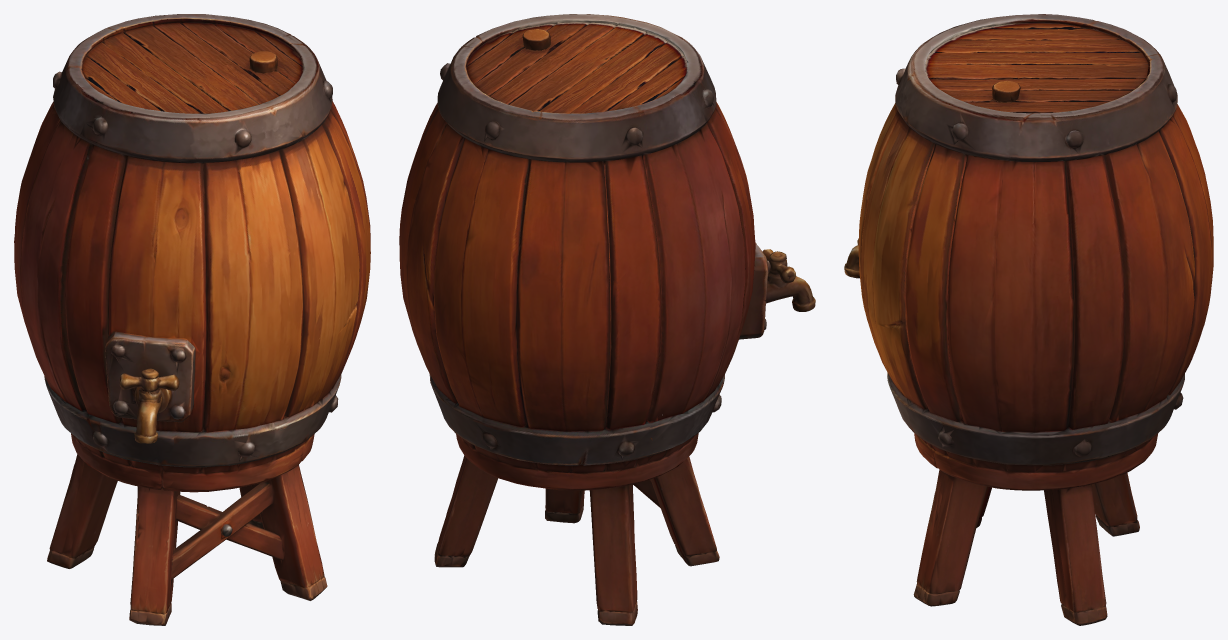
Rendered from keg-tripo.glb.
3 renders of one model, left to right at view 1: azimuth 30°, elevation 25°; view 2: azimuth 150°, elevation 25°; view 3: azimuth 270°, elevation 25°, orthographic.
Visible parts, largest first — view 1: tripo_node_886b1c9d-72e4-4c39-97f5-8c304cf52ed2; view 2: tripo_node_886b1c9d-72e4-4c39-97f5-8c304cf52ed2; view 3: tripo_node_886b1c9d-72e4-4c39-97f5-8c304cf52ed2.
Boxes of the visible parts, box(x1,y1,x2,y2) form: tripo_node_886b1c9d-72e4-4c39-97f5-8c304cf52ed2: box(14, 14, 370, 625); tripo_node_886b1c9d-72e4-4c39-97f5-8c304cf52ed2: box(399, 14, 815, 625); tripo_node_886b1c9d-72e4-4c39-97f5-8c304cf52ed2: box(844, 14, 1213, 625).
Bounding box in the file's own units: 0.6182 × 0.9796 × 0.6426.
Materials: 1 (1 with a texture image).
